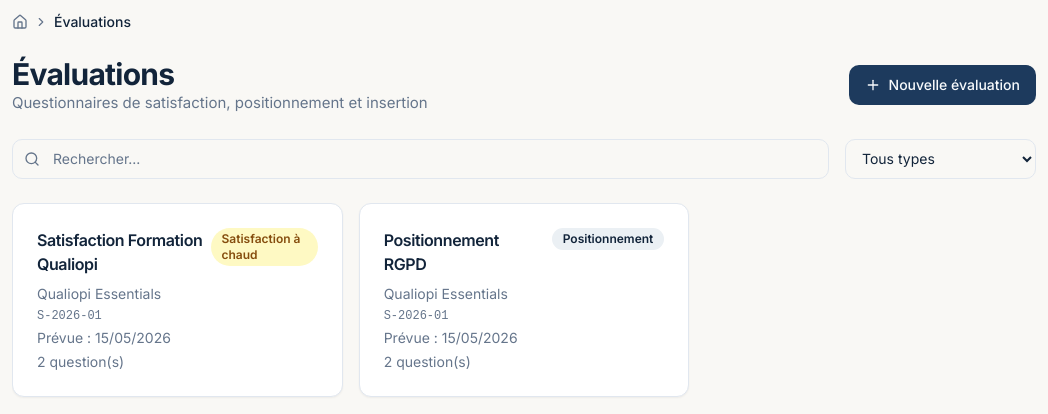
EvaluationsListPage › filters evaluations by title
The image size is (1048, 414).
In the field with placeholder "Rechercher...": (420,158) [12,138,829,178], type "rgpd"
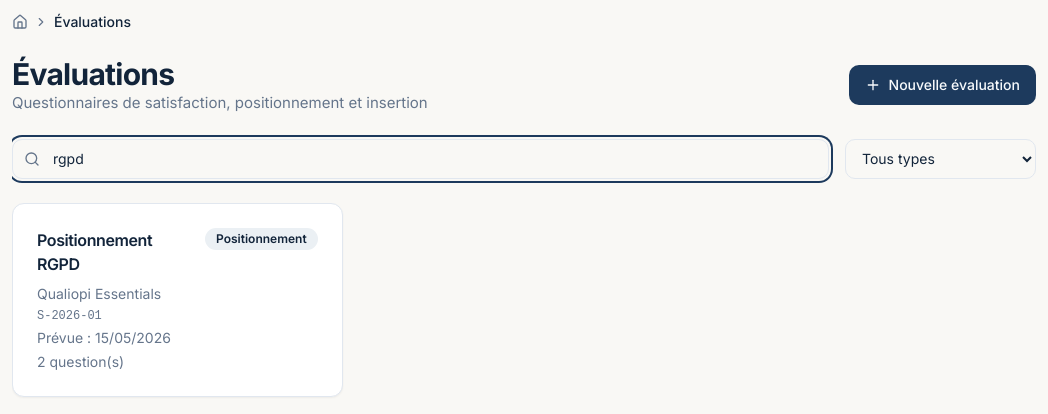
Check: the heading "Positionnement RGPD" is shown, box [37,230,152,274]
Check: the link "Satisfaction Formation Qualiopi" is gone
